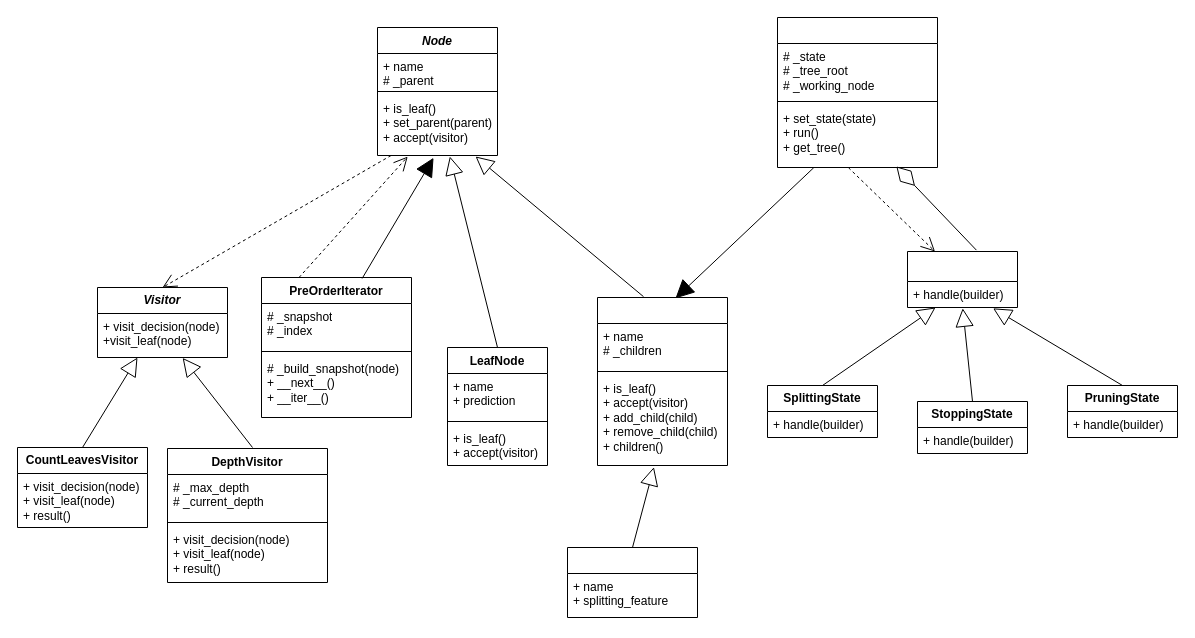
The diagram is 1195 pixels wide and 638 high, and some of its shapes have lost their labels. Each missing label, with the box of its shape:
BuilderState: (906, 250, 1018, 308)
CompositeNode: (596, 296, 728, 466)
DecisionNode: (566, 546, 698, 618)
TreeBuilder: (776, 16, 938, 168)
